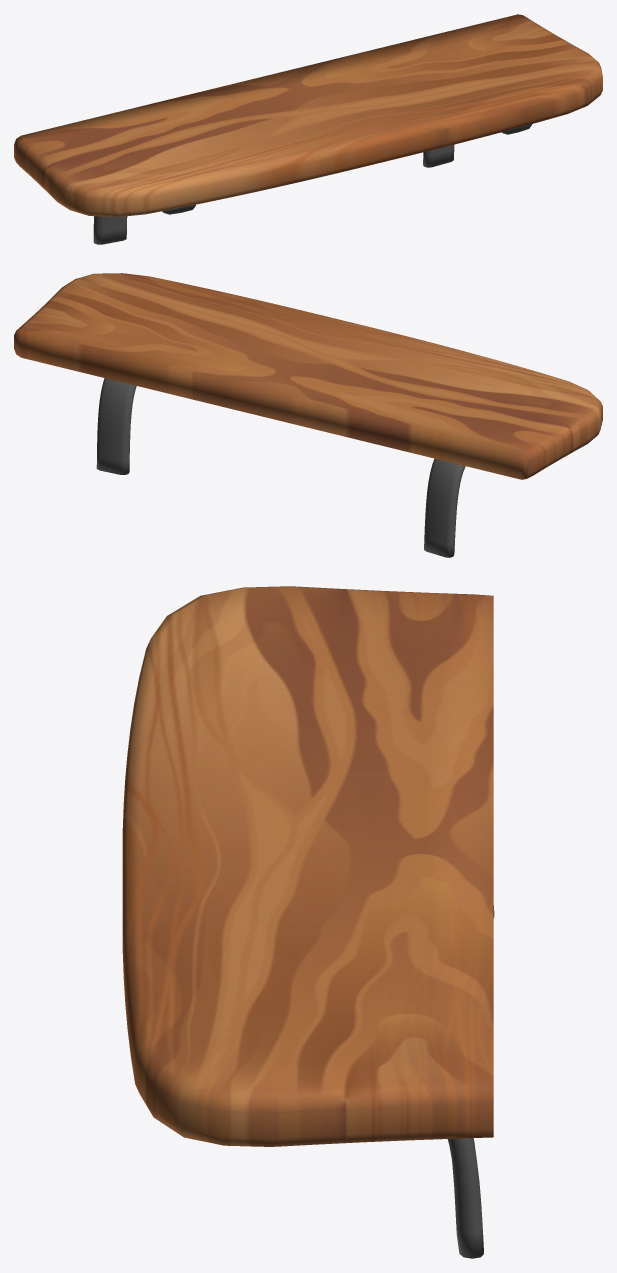
The model's file is Shelf1.fbx.
3 views of the same model, one above another, from view 1: azimuth 30°, elevation 25°; view 2: azimuth 150°, elevation 25°; view 3: azimuth 270°, elevation 25° (orthographic). The views are drawn at different scales.
Visible parts, largest first — view 1: Shelf1Bake; view 2: Shelf1Bake; view 3: Shelf1Bake.
Part boxes in pixels (x1,y1,x2,y2): Shelf1Bake: [14, 14, 602, 244]; Shelf1Bake: [14, 273, 602, 557]; Shelf1Bake: [122, 586, 494, 1258].
Bounding box in the file's own units: 287 × 63.65 × 87.21.
